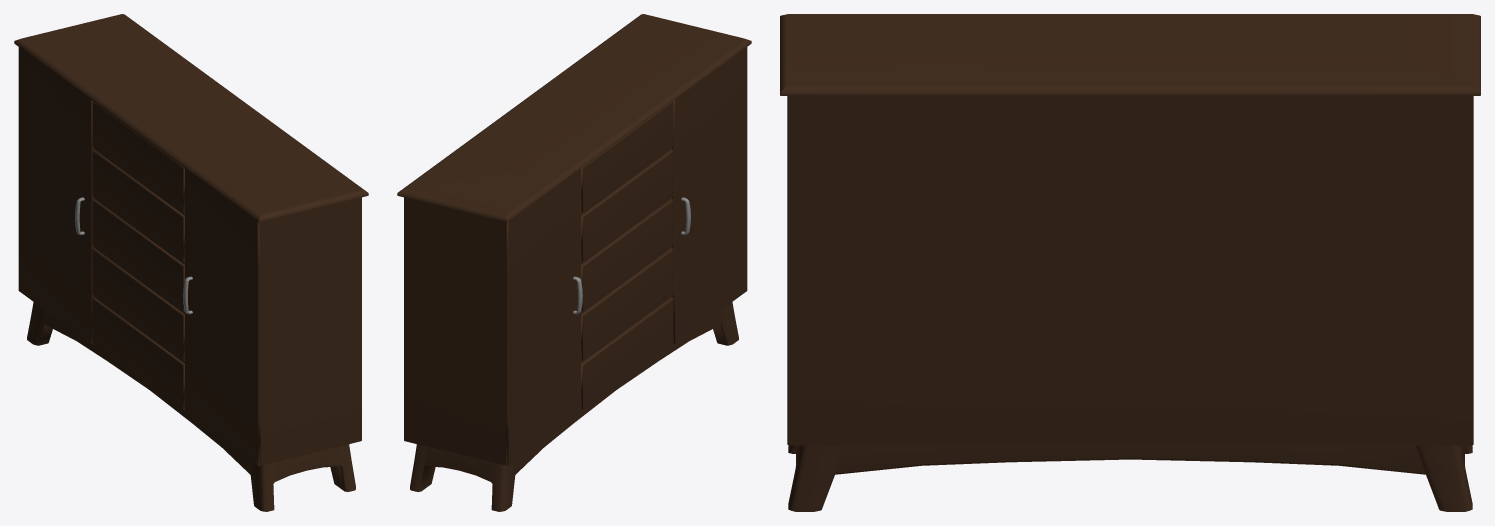
Rendered from cabinet.fbx.
3 renders of one model, left to right at view 1: azimuth 30°, elevation 25°; view 2: azimuth 150°, elevation 25°; view 3: azimuth 270°, elevation 25°, orthographic. The views are drawn at different scales.
Visible parts, largest first — view 1: cabinet; view 2: cabinet; view 3: cabinet.
Boxes of the visible parts, bbox=[...] form: cabinet: bbox=[14, 14, 368, 511]; cabinet: bbox=[397, 14, 751, 511]; cabinet: bbox=[780, 14, 1480, 511].
Size of the model in its own units: 0.4971 by 1.22 by 1.8.
